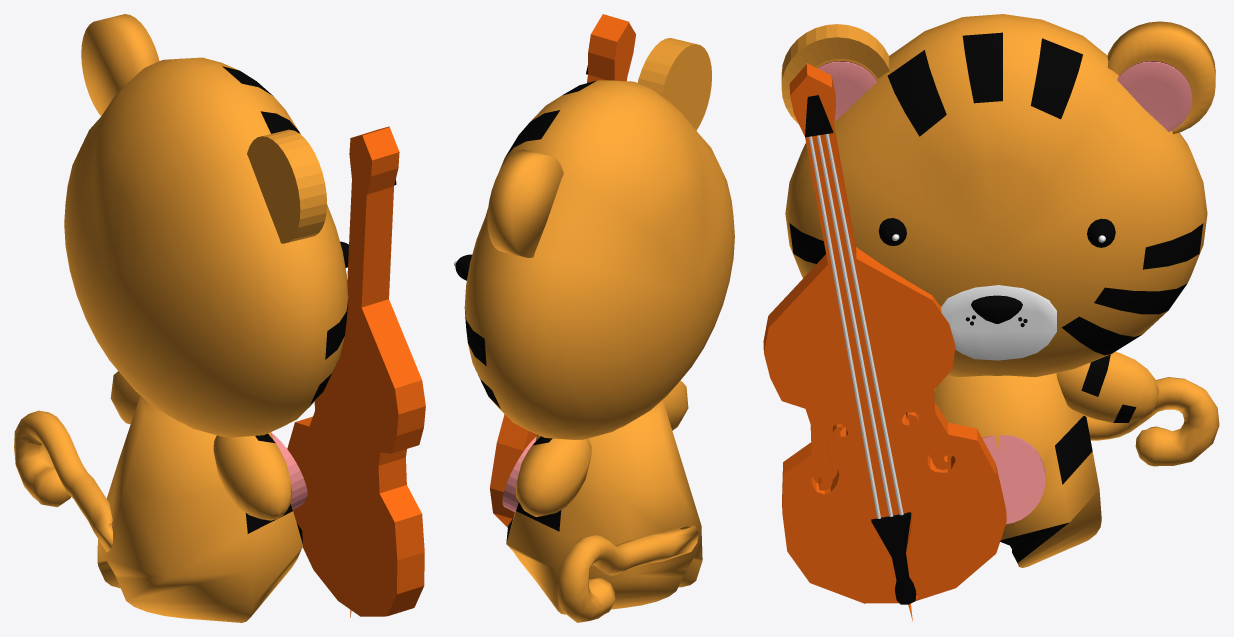
The model's file is tiger.fbx.
3 renders of one model, left to right at view 1: azimuth 30°, elevation 25°; view 2: azimuth 150°, elevation 25°; view 3: azimuth 270°, elevation 25°, orthographic. The views are drawn at different scales.
Visible parts, largest first — view 1: Sphere.012, Cube.002, Cylinder.001, Cylinder.007, Circle, Cylinder.005, Circle.001, Cylinder.006, Circle.004; view 2: Sphere.012, Cylinder.001, Cylinder.007, Circle.001, Cube.002, Cylinder.006, Circle, Cylinder.005, Circle.004; view 3: Sphere.012, Cube.002, Cylinder.001, Cube.003, Cylinder.007, Circle.001, Cylinder.006, Circle, Circle.004, Circle.002, Circle.003, Sphere.015 (+1 smaller).
Boxes of the visible parts, box(x1,y1,x2,y2) form: Sphere.012: box(64, 57, 348, 437); Cube.002: box(287, 126, 425, 617); Cylinder.001: box(97, 395, 302, 622); Cylinder.007: box(14, 410, 112, 552); Circle: box(247, 129, 326, 243); Cylinder.005: box(213, 433, 292, 520); Circle.001: box(81, 14, 159, 115); Cylinder.006: box(110, 371, 140, 424); Circle.004: box(271, 433, 307, 509); Sphere.012: box(464, 80, 734, 439); Cylinder.001: box(506, 400, 702, 614); Cylinder.007: box(557, 524, 698, 622); Circle.001: box(487, 149, 563, 257); Cube.002: box(490, 14, 635, 527); Cylinder.006: box(515, 436, 591, 516); Circle: box(637, 38, 711, 130); Cylinder.005: box(663, 380, 688, 430); Circle.004: box(502, 437, 536, 512); Sphere.012: box(785, 14, 1207, 377); Cube.002: box(763, 63, 1006, 621); Cylinder.001: box(934, 373, 1101, 567); Cube.003: box(941, 285, 1056, 360); Cylinder.007: box(1086, 377, 1219, 466); Circle.001: box(1107, 21, 1215, 133); Cylinder.006: box(1056, 351, 1159, 422); Circle: box(781, 24, 889, 123); Circle.004: box(982, 435, 1045, 524); Circle.002: box(1117, 61, 1192, 131); Circle.003: box(817, 61, 876, 121); Sphere.015: box(971, 295, 1022, 323).
Size of the model in its own units: 170 by 400 by 300.
